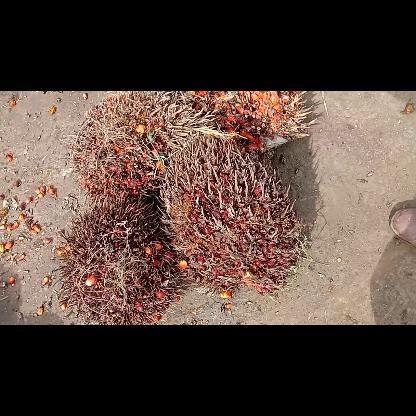Terlalu masak: (156, 132, 298, 290), (58, 194, 190, 324), (70, 91, 214, 201), (189, 90, 313, 152)
